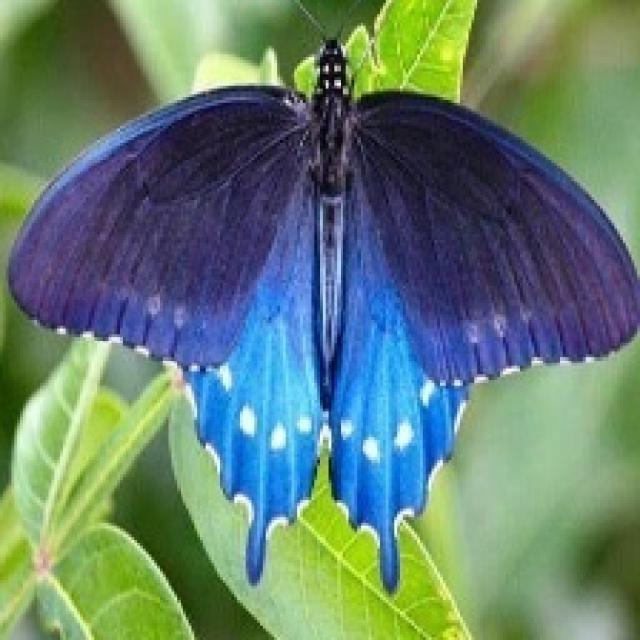butterfly: (2, 0, 637, 591)
